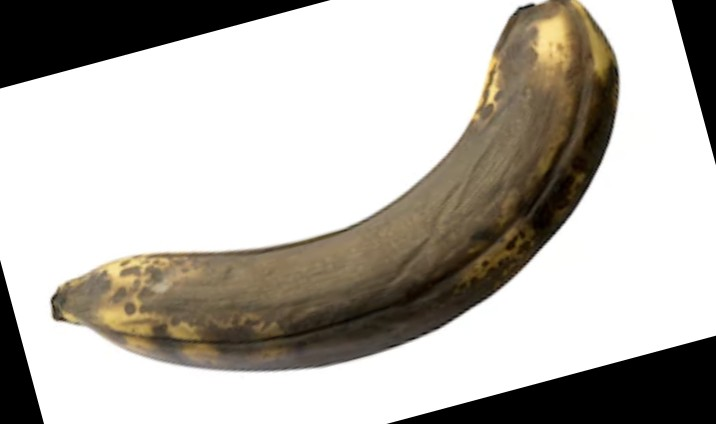rotten_banana: (54, 2, 620, 371)
